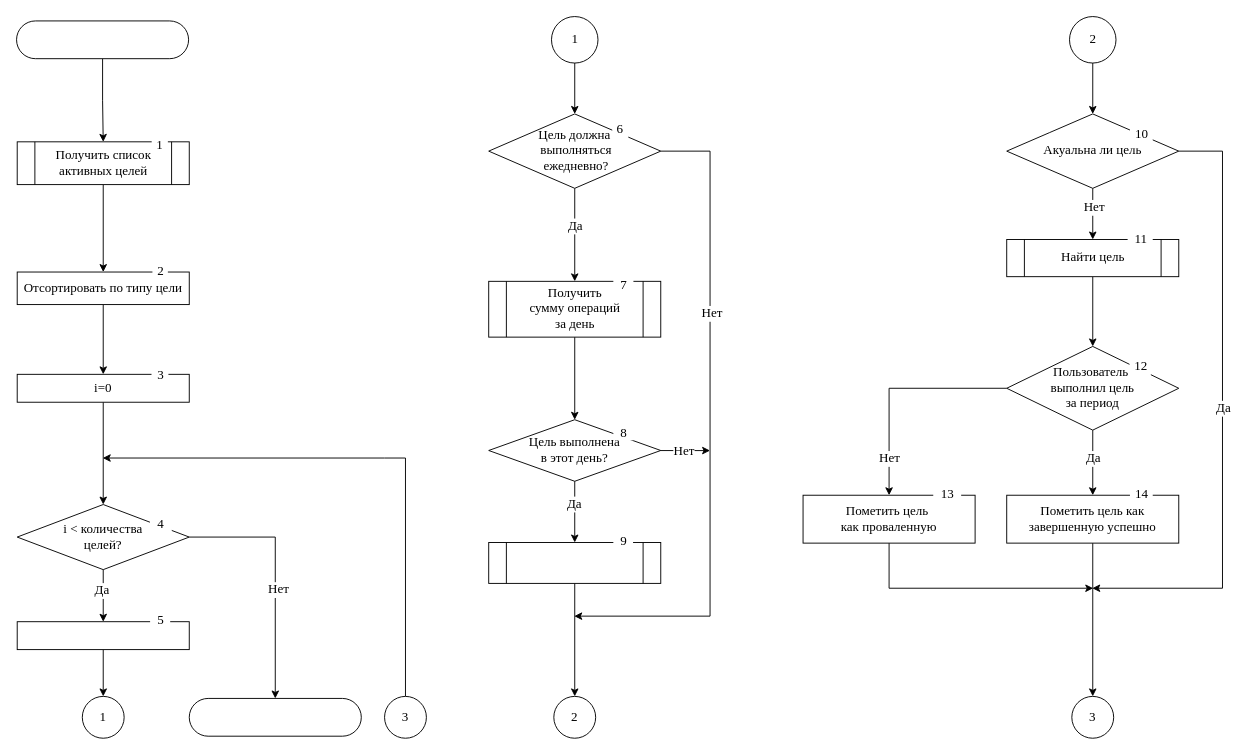
Image size: 1246x754. Some labels were removed from this diagram. Here are the shapes that lost their labels. From the top down, the centre of each, then its label:
At point 102,39: "Начало".
At point 574,562: "Создать отметки о выполнении".
At point 102,635: "i++".
At point 274,717: "Конец".
